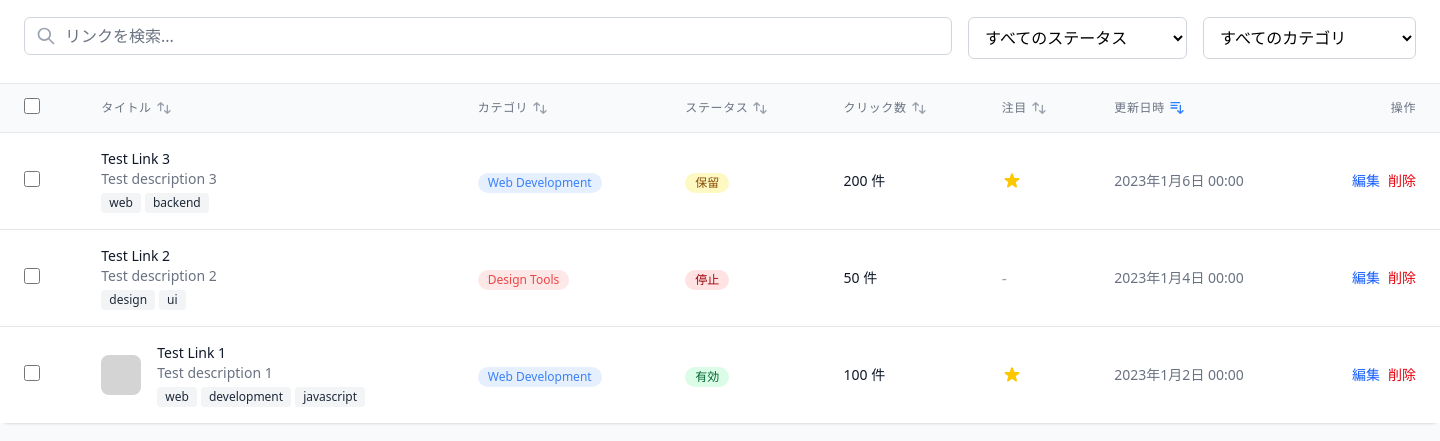
Scenario: LinkManagementTable › filters links by search query
The width and height of the screenshot is (1440, 441).
In the field with placeholder "リンクを検索...": {"x": 488, "y": 36} [24,17,952,55], type "Test Link 1"
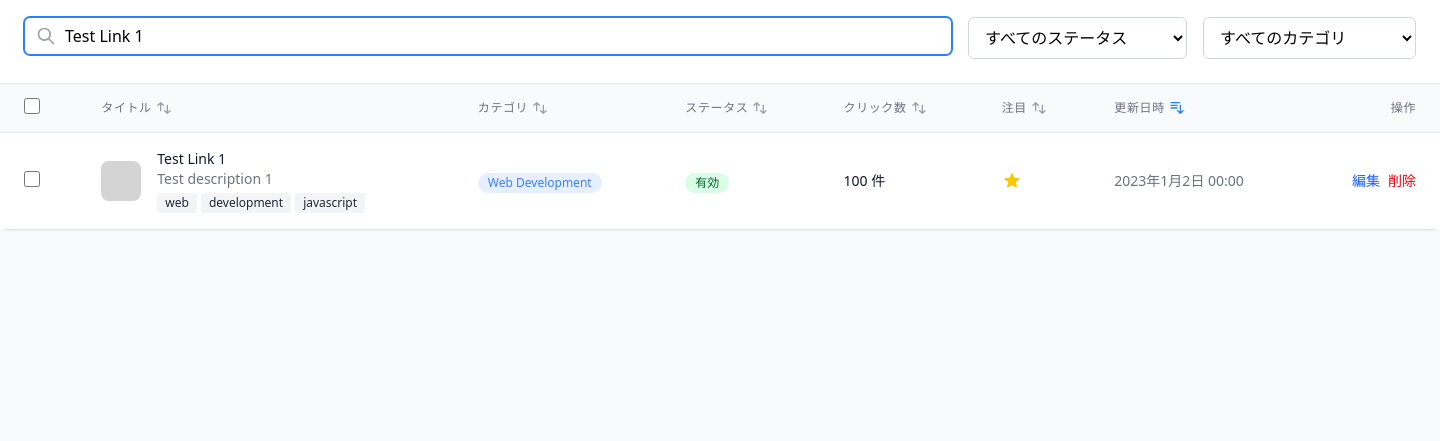
Check: the text "Test Link 1" is shown, box [157,149,226,168]
Check: the text "Test Link 2" is gone
Check: the text "Test Link 3" is gone
